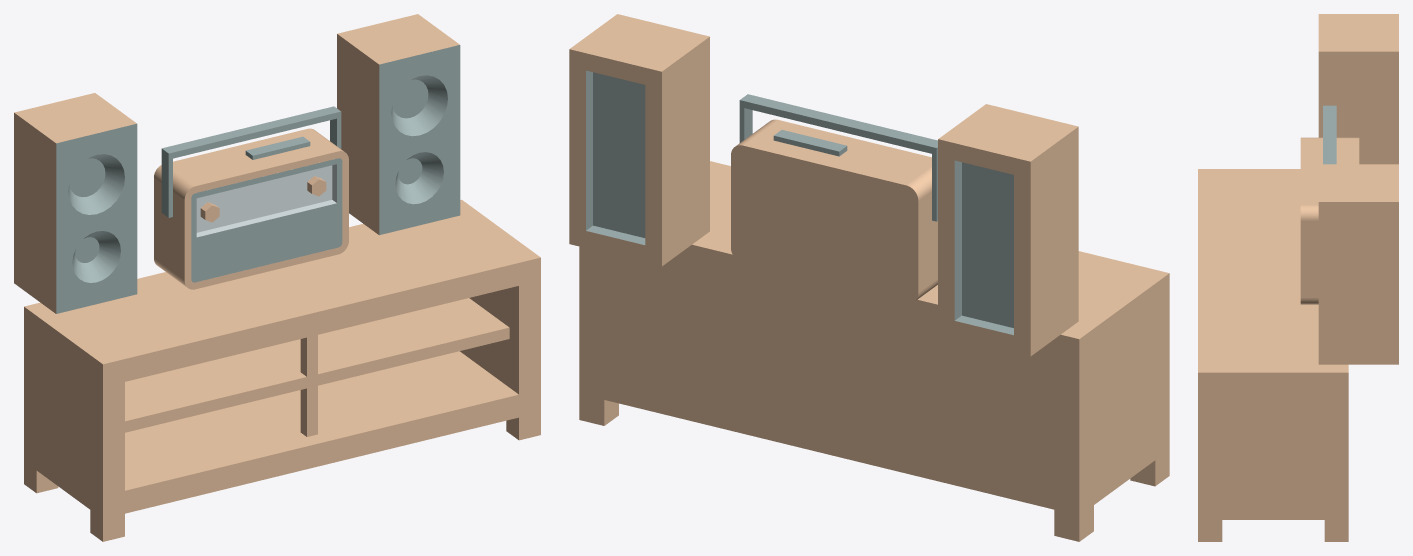
The model's file is stereoUnit.glb.
The picture shows the model from 3 angles, left to right: view 1: azimuth 30°, elevation 25°; view 2: azimuth 150°, elevation 25°; view 3: azimuth 270°, elevation 25°; orthographic projection. The views are drawn at different scales.
Parts seen in each view (by area): view 1: cabinetTelevision(Clone), radio(Clone); view 2: cabinetTelevision(Clone), radio(Clone); view 3: cabinetTelevision(Clone), radio(Clone).
Boxes of the visible parts, x1,y1,x2,y2 form: cabinetTelevision(Clone): (14, 14, 540, 541); radio(Clone): (56, 45, 460, 313); cabinetTelevision(Clone): (569, 14, 1169, 541); radio(Clone): (586, 70, 1013, 335); cabinetTelevision(Clone): (1198, 14, 1398, 541); radio(Clone): (1323, 105, 1336, 164).
Bounding box in the file's own units: 0.8 × 0.608 × 0.3332.
